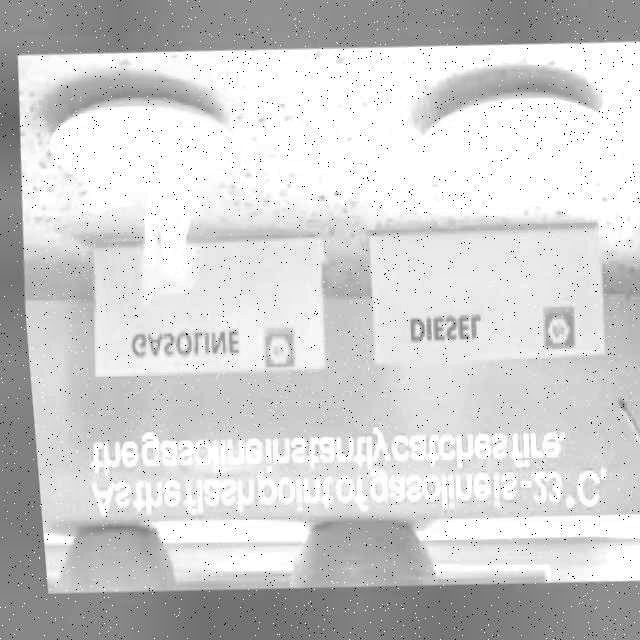Smoke: (58, 119, 213, 323)
